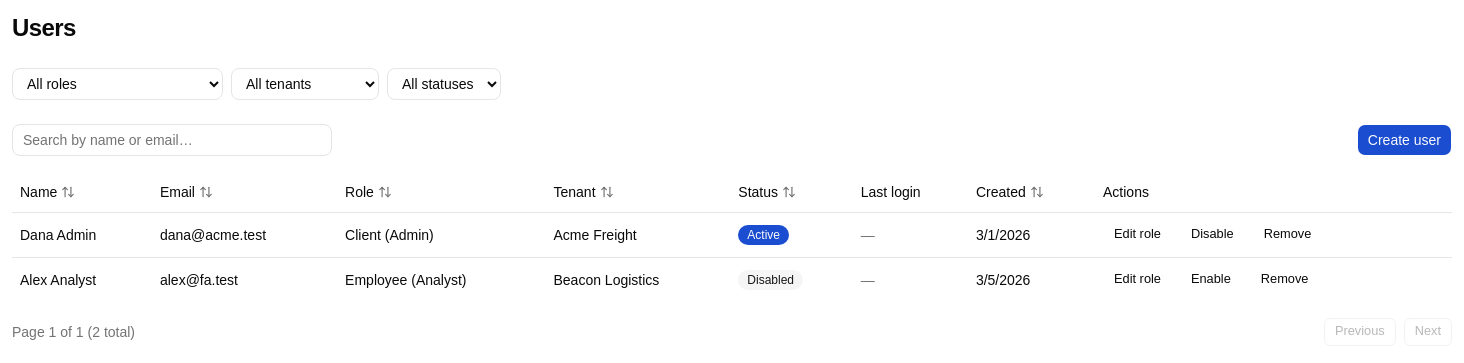
Test: UsersPage › AC: filters narrow results by tenant
Check: the text "dana@acme.test" is shown, box left=152, top=212, right=337, bottom=257
Select "Acme Freight" in the dropdown named "Filter by tenant" at (305, 84), box left=231, top=68, right=379, bottom=100
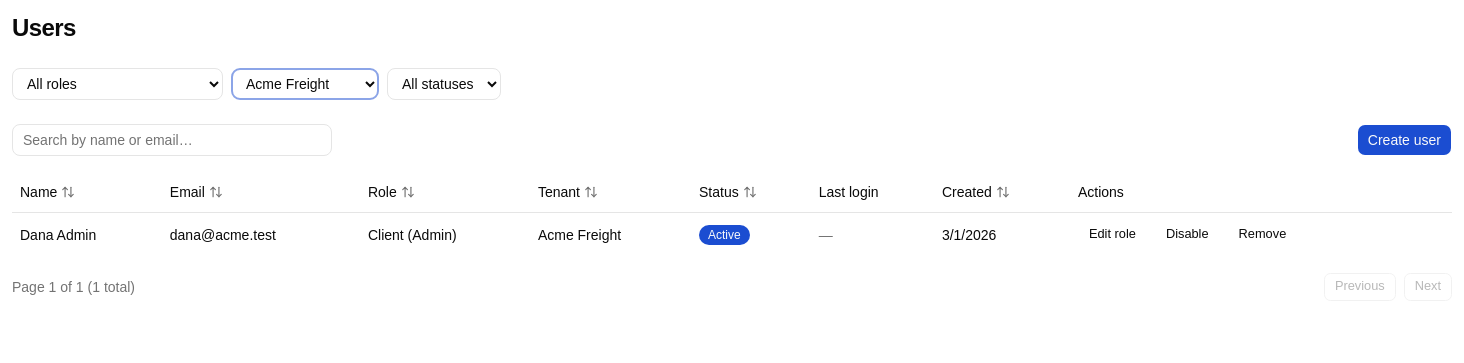
Check: the text "dana@acme.test" is shown, box left=162, top=212, right=360, bottom=256
Check: the text "alex@fa.test" is gone
